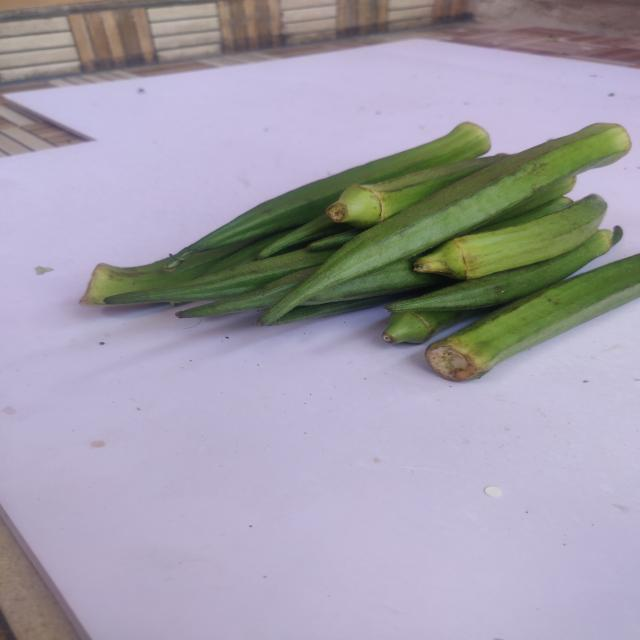Ladies Finger: (258, 122, 632, 325), (166, 122, 491, 269), (425, 254, 640, 382), (414, 194, 608, 279)
